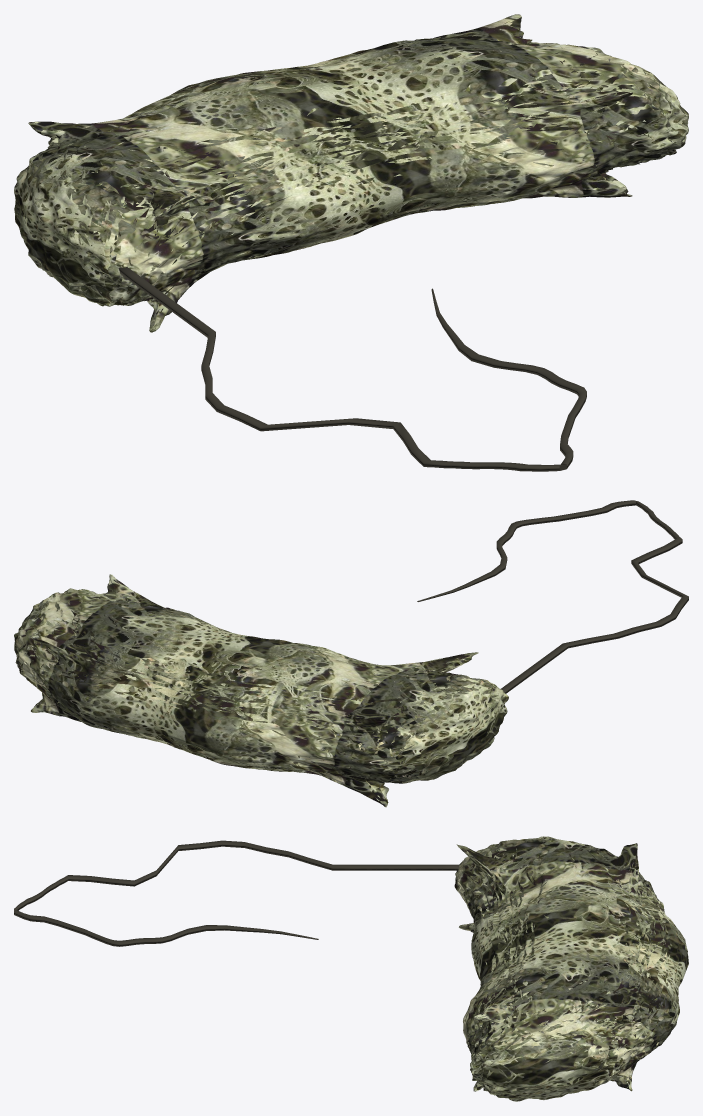
Rendered from euglena.fbx.
3 renders of one model, top to bottom at view 1: azimuth 30°, elevation 25°; view 2: azimuth 150°, elevation 25°; view 3: azimuth 270°, elevation 25°, orthographic. The views are drawn at different scales.
Visible parts, largest first — view 1: (null); view 2: (null); view 3: (null).
Boxes of the visible parts, x1,y1,x2,y2 form: (null): (14, 14, 688, 471); (null): (14, 500, 688, 807); (null): (14, 836, 688, 1101).
Bounding box in the file's own units: 1290 × 250 × 1587.
